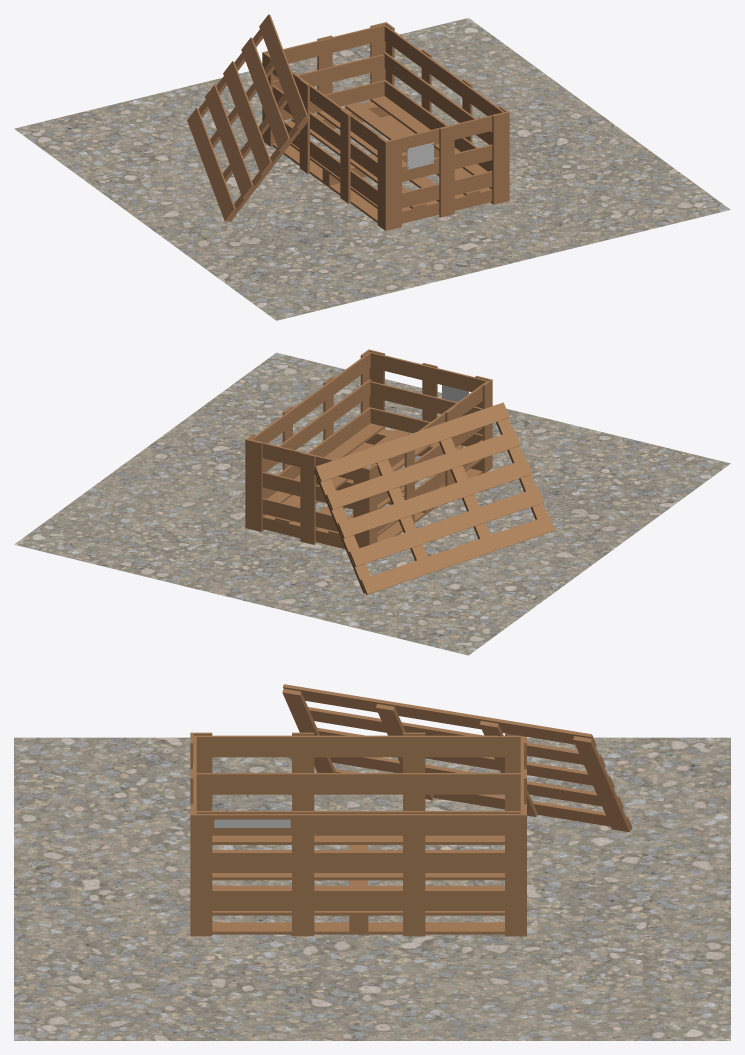
The model's file is OpenBox_Final.fbx.
3 renders of one model, top to bottom at view 1: azimuth 30°, elevation 25°; view 2: azimuth 150°, elevation 25°; view 3: azimuth 270°, elevation 25°, orthographic. The views are drawn at different scales.
Parts seen in each view (by area): view 1: Plane, Board.026, Board.038, Board.039, Board.036, Board.040, Board.037, Board.035, Board.025, Board.002, Board.001, Board.034 (+19 smaller); view 2: Plane, Board.039, Board.036, Board.038, Board.040, Board.037, Board.026, Board.032, Board.025, Board.004, Board.005, Board.031 (+16 smaller); view 3: Plane, Board.029, Board.028, Board.024, Board.025, Board.026, Board.039, Board.014, Board.006, Board.010, Board.012, Board.008 (+17 smaller).
Boxes of the visible parts, left/top/right/bottom form: Plane: left=14, top=18, right=730, bottom=320; Board.026: left=384, top=24, right=504, bottom=115; Board.038: left=223, top=61, right=271, bottom=175; Board.039: left=259, top=14, right=307, bottom=128; Board.036: left=241, top=37, right=290, bottom=151; Board.040: left=187, top=108, right=235, bottom=221; Board.037: left=205, top=85, right=253, bottom=198; Board.035: left=268, top=24, right=384, bottom=63; Board.025: left=383, top=52, right=492, bottom=144; Board.002: left=439, top=125, right=454, bottom=217; Board.001: left=492, top=112, right=507, bottom=204; Board.034: left=272, top=54, right=384, bottom=91; Plane: left=14, top=352, right=730, bottom=655; Board.039: left=314, top=402, right=509, bottom=482; Board.036: left=326, top=430, right=520, bottom=509; Board.038: left=337, top=459, right=532, bottom=538; Board.040: left=360, top=515, right=555, bottom=594; Board.037: left=349, top=487, right=543, bottom=566; Board.026: left=250, top=352, right=370, bottom=443; Board.032: left=370, top=352, right=486, bottom=391; Board.025: left=263, top=379, right=371, bottom=472; Board.004: left=247, top=439, right=262, bottom=531; Board.005: left=300, top=452, right=315, bottom=544; Board.031: left=370, top=381, right=482, bottom=416; Plane: left=14, top=737, right=730, bottom=1040; Board.029: left=194, top=735, right=522, bottom=757; Board.028: left=196, top=773, right=520, bottom=794; Board.024: left=212, top=889, right=504, bottom=910; Board.025: left=212, top=851, right=504, bottom=872; Board.026: left=212, top=814, right=504, bottom=835; Board.039: left=283, top=684, right=596, bottom=747; Board.014: left=212, top=922, right=504, bottom=934; Board.006: left=190, top=814, right=212, bottom=936; Board.010: left=292, top=814, right=314, bottom=936; Board.012: left=403, top=814, right=425, bottom=936; Board.008: left=505, top=814, right=526, bottom=936.
Size of the model in its own units: 645 by 138 by 645.
